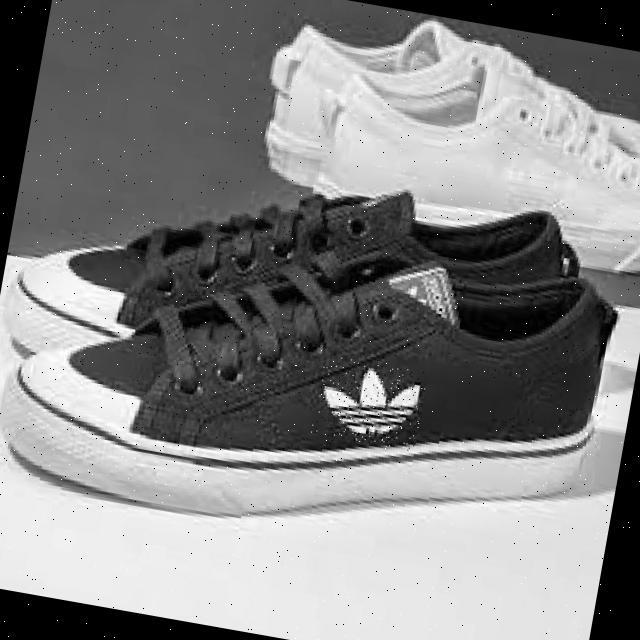Adidas: (311, 354, 428, 451)
